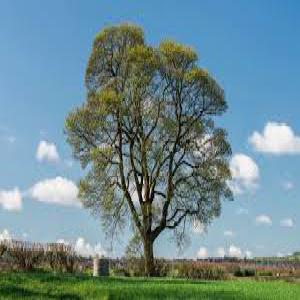Tree: (66, 18, 233, 273)
